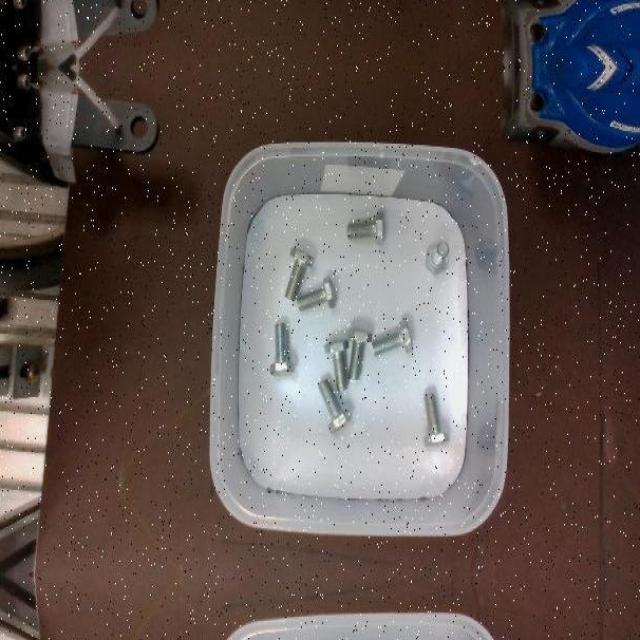screw: (316, 378, 352, 433), (285, 246, 314, 301), (371, 320, 414, 356), (269, 321, 296, 378), (295, 275, 337, 311), (423, 390, 450, 446), (323, 338, 350, 393), (346, 210, 386, 246), (348, 326, 373, 379), (427, 240, 449, 276)
